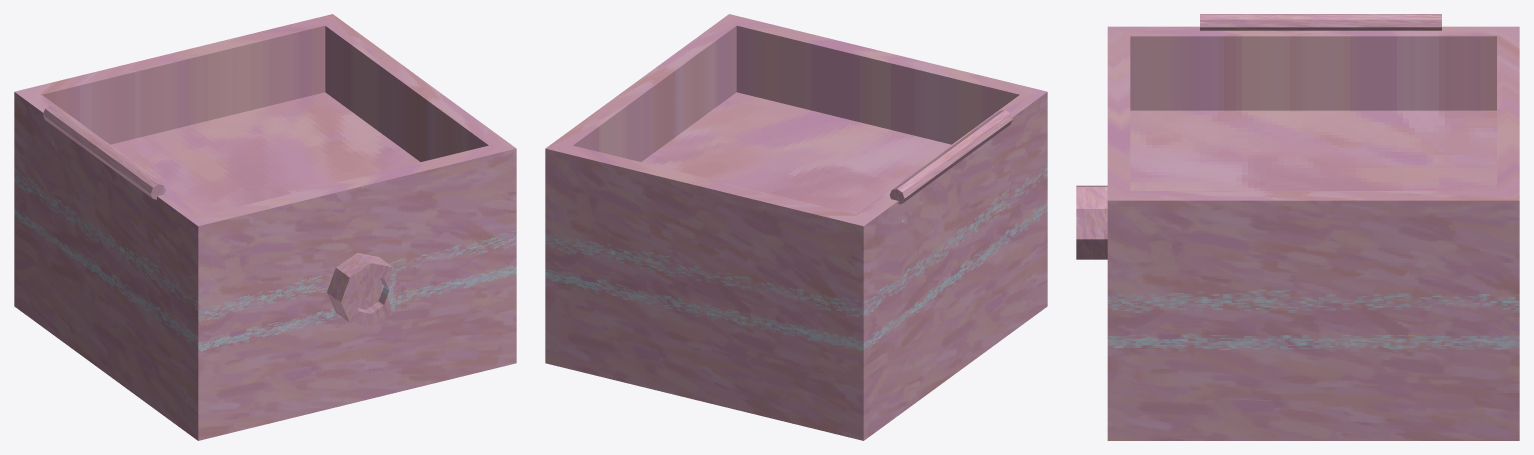
The picture shows the model from 3 angles, left to right: view 1: azimuth 30°, elevation 25°; view 2: azimuth 150°, elevation 25°; view 3: azimuth 270°, elevation 25°; orthographic projection. The views are drawn at different scales.
Parts seen in each view (by area): view 1: base; view 2: base; view 3: base.
Part boxes in pixels (x1,y1,x2,y2): base: [14, 14, 516, 440]; base: [545, 14, 1047, 440]; base: [1076, 14, 1519, 440].
Size of the model in its own units: 0.1295 by 0.0863 by 0.1368.
1 material, 1 textured.
